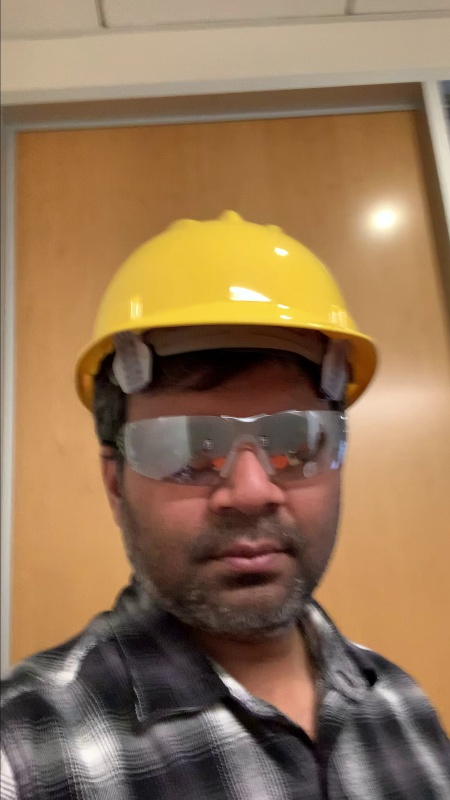glasses: (114, 408, 345, 485)
helmet: (89, 207, 357, 341)
